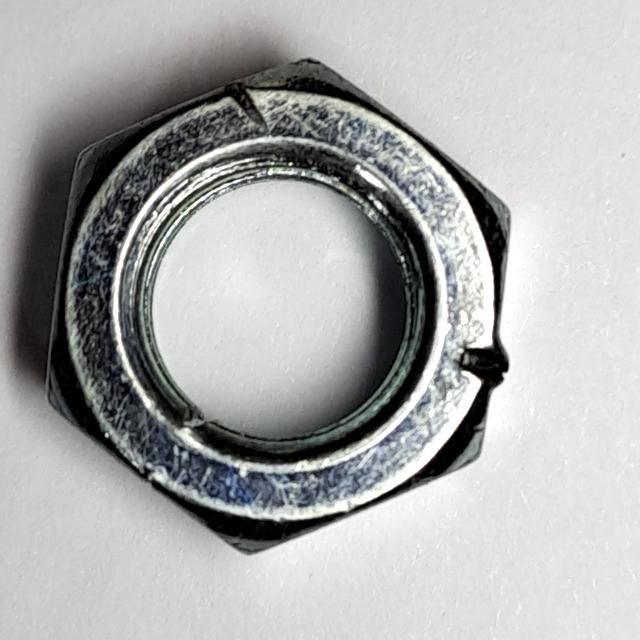Scratches: (34, 42, 522, 576)
